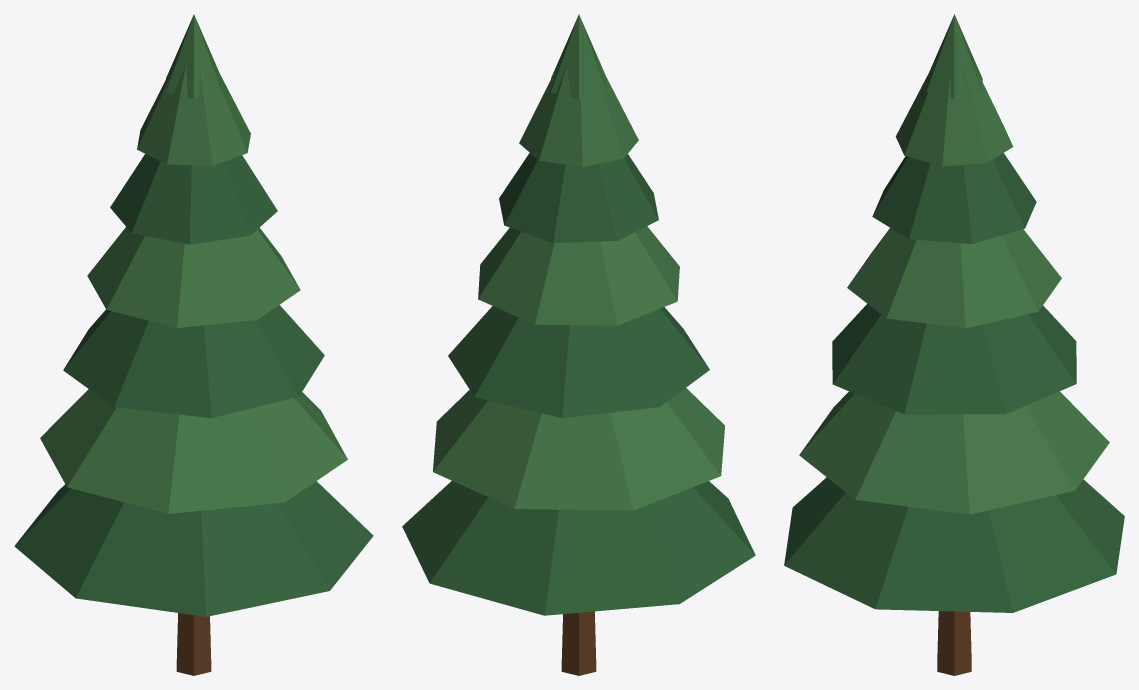
Rendered from Pine_Medium.fbx.
3 renders of one model, left to right at view 1: azimuth 30°, elevation 25°; view 2: azimuth 150°, elevation 25°; view 3: azimuth 270°, elevation 25°, orthographic.
Parts seen in each view (by area): view 1: Pine_Medium; view 2: Pine_Medium; view 3: Pine_Medium.
Part boxes in pixels (x1,y1,x2,y2): Pine_Medium: (14, 14, 373, 675); Pine_Medium: (402, 14, 755, 675); Pine_Medium: (784, 14, 1124, 675).
Size of the model in its own units: 3.03 by 6.4 by 3.03.
